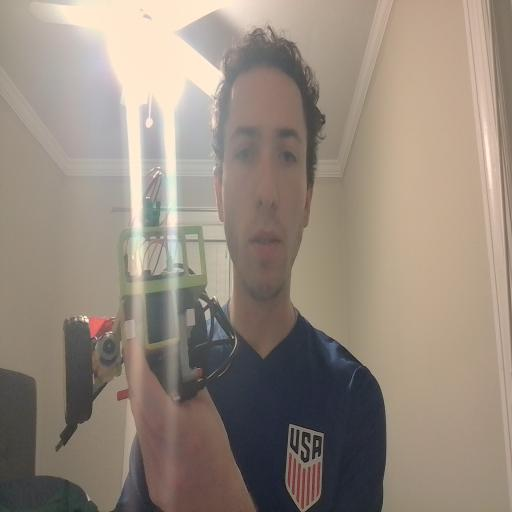green LEGO minifig: (139, 194, 162, 236)
